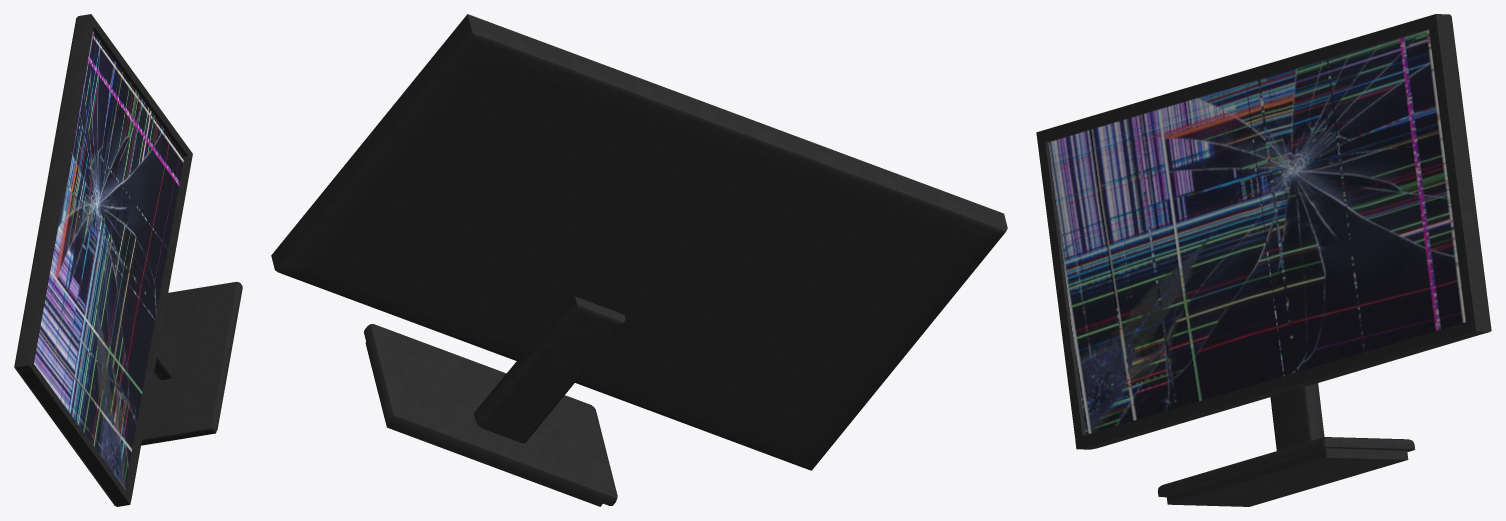
Rendered from brokenMonitor.glb.
3 renders of one model, left to right at view 1: azimuth 30°, elevation 25°; view 2: azimuth 150°, elevation 25°; view 3: azimuth 270°, elevation 25°, orthographic. The views are drawn at different scales.
Parts seen in each view (by area): view 1: monitor; view 2: monitor; view 3: monitor.
Part boxes in pixels (bbox=[...]): monitor: bbox=[14, 14, 242, 506]; monitor: bbox=[271, 14, 1007, 506]; monitor: bbox=[1036, 14, 1491, 506].
Bounding box in the file's own units: 77.5 × 83.02 × 67.71.
Materials: 1 (1 with a texture image).
